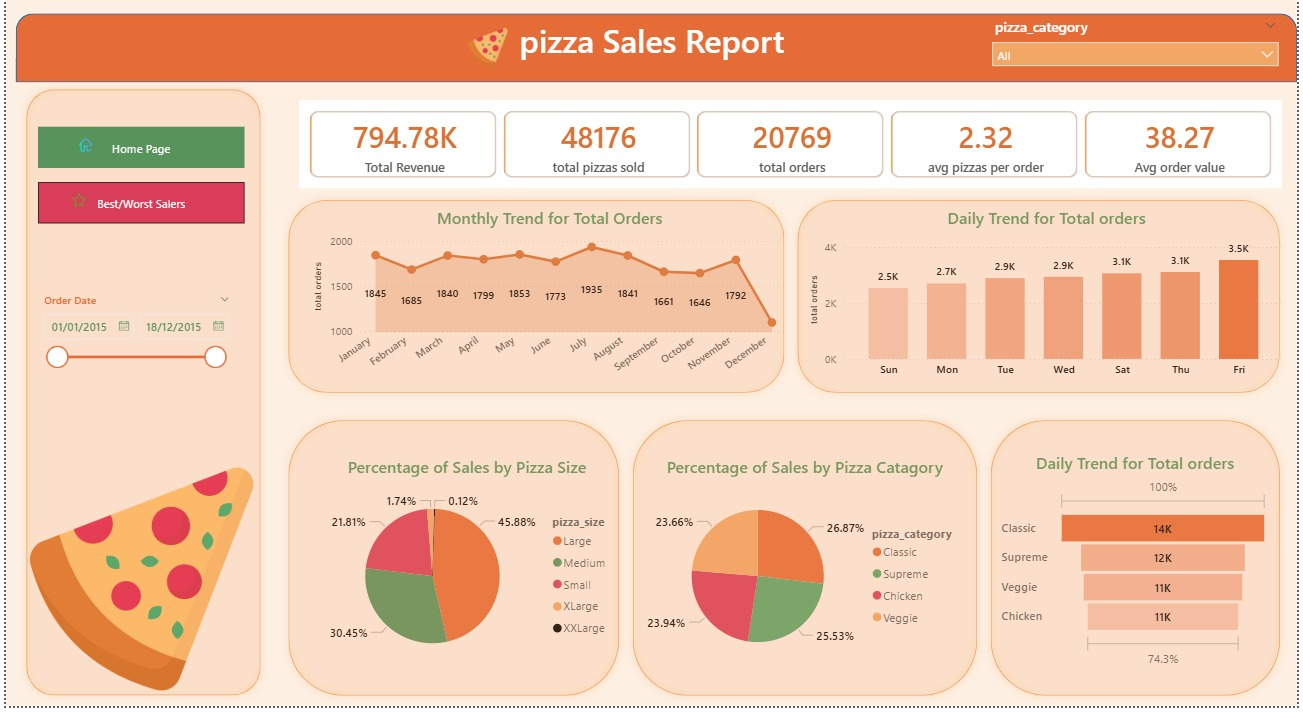

The page's visual inventory and layout, read from the dashboard file:
{"tool":"powerbi","page":{"name":"Home Page","canvas":[1500,820],"ordinal":0},"visuals":[{"type":"cardVisual","fields":{"Data":["pizza_sales.Total Revenue","pizza_sales.total pizzas sold","pizza_sales.total orders","pizza_sales.avg pizzas per order","pizza_sales.Avg order value"]},"box":[336,112,1152,112],"z":0},{"type":"columnChart","title":"Daily Trend for Total orders","fields":{"Category":["pizza_sales.Day Name.1"],"Y":["pizza_sales.total orders"]},"box":[928,240,560,208],"z":1000},{"type":"pieChart","title":"Percentage of Sales by Pizza Catagory ","fields":{"Category":["pizza_sales.pizza_category"],"Y":["pizza_sales.Total Revenue"]},"box":[736,528,384,256],"z":2000},{"type":"shape","box":[12,16,1488,80],"z":3000},{"type":"textbox","box":[592,16,384,64],"z":4000},{"type":"image","box":[512,32,96,48],"z":5000},{"type":"stackedAreaChart","title":"Monthly Trend for Total Orders ","fields":{"Category":["pizza_sales.order_date.Variation.Date Hierarchy.Month"],"Y":["pizza_sales.total orders"]},"box":[352,240,560,208],"z":6000},{"type":"pieChart","title":"Percentage of Sales by Pizza Size","fields":{"Category":["pizza_sales.pizza_size"],"Y":["pizza_sales.Total Revenue"]},"box":[352,528,368,256],"z":7000},{"type":"funnel","title":"Daily Trend for Total orders","fields":{"Y":["pizza_sales.total pizzas sold"],"Category":["pizza_sales.pizza_category"]},"box":[1152,524.5,320,256],"z":8000},{"type":"shape","box":[16,96,288,720],"z":9000},{"type":"slicer","fields":{"Values":["pizza_sales.pizza_category"]},"box":[1136,16,352,64],"z":10000},{"type":"image","box":[21.2,528,272,288],"z":11000},{"type":"pageNavigator","box":[37.2,147.5,240,48],"z":12000},{"type":"pageNavigator","box":[37.2,211.5,240,48],"z":13000},{"type":"image","box":[53.2,224,64,16],"z":14000},{"type":"image","box":[69.2,160,48,16],"z":15000},{"type":"slicer","fields":{"Values":["pizza_sales.order_date"]},"box":[32,336,240,128],"z":16000},{"type":"shape","box":[320,224,592,240],"z":17000},{"type":"shape","box":[912,224,576,240],"z":18000},{"type":"shape","box":[1136,480,352,336],"z":19000},{"type":"shape","box":[320,480,400,336],"z":20000},{"type":"shape","box":[720,480,416,336],"z":21000}]}

Visuals, with their boxes in screenshot pixels (x1, y1, x2, y2), scaled from the page's 1500x820 canvas onto the 1303x719 screenshot:
cardVisual - pizza_sales.Total Revenue x pizza_sales.total pizzas sold: box=[292, 98, 1293, 196]
"Daily Trend for Total orders" columnChart: box=[806, 210, 1293, 393]
"Percentage of Sales by Pizza Catagory " pieChart: box=[639, 463, 973, 687]
shape: box=[10, 14, 1302, 84]
textbox: box=[514, 14, 848, 70]
image: box=[445, 28, 528, 70]
"Monthly Trend for Total Orders " stackedAreaChart: box=[306, 210, 792, 393]
"Percentage of Sales by Pizza Size" pieChart: box=[306, 463, 625, 687]
"Daily Trend for Total orders" funnel: box=[1001, 460, 1279, 684]
shape: box=[14, 84, 264, 715]
slicer - pizza_sales.pizza_category: box=[987, 14, 1293, 70]
image: box=[18, 463, 255, 715]
pageNavigator: box=[32, 129, 241, 171]
pageNavigator: box=[32, 185, 241, 228]
image: box=[46, 196, 102, 210]
image: box=[60, 140, 102, 154]
slicer - pizza_sales.order_date: box=[28, 295, 236, 407]
shape: box=[278, 196, 792, 407]
shape: box=[792, 196, 1293, 407]
shape: box=[987, 421, 1293, 715]
shape: box=[278, 421, 625, 715]
shape: box=[625, 421, 987, 715]
